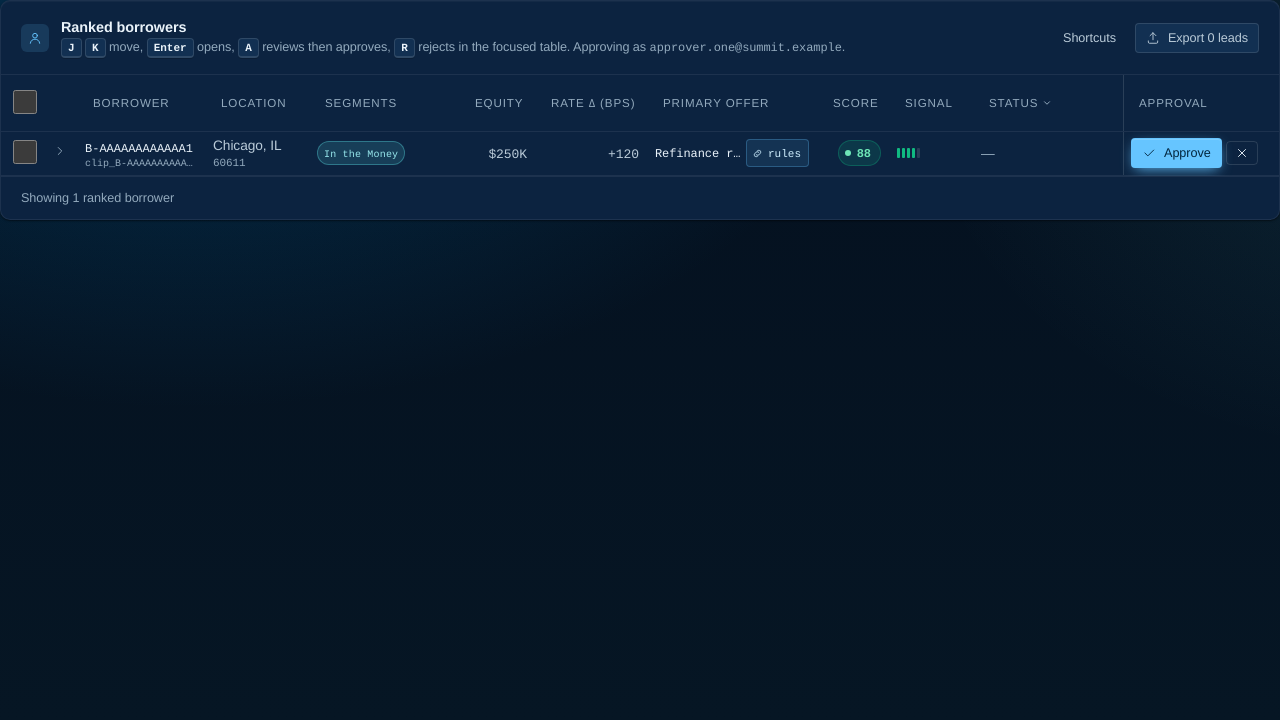
LeadTable A/R hotkeys from row-internal focus › focus scope (tables-v2 / a11y-09) › still opens the review when focus is on the table scroll region itself (click-row-then-A)
The image size is (1280, 720).
Step 1. Click the button with class "lead-table__borrower-btn" → (141, 154), box [85,140,197,169]
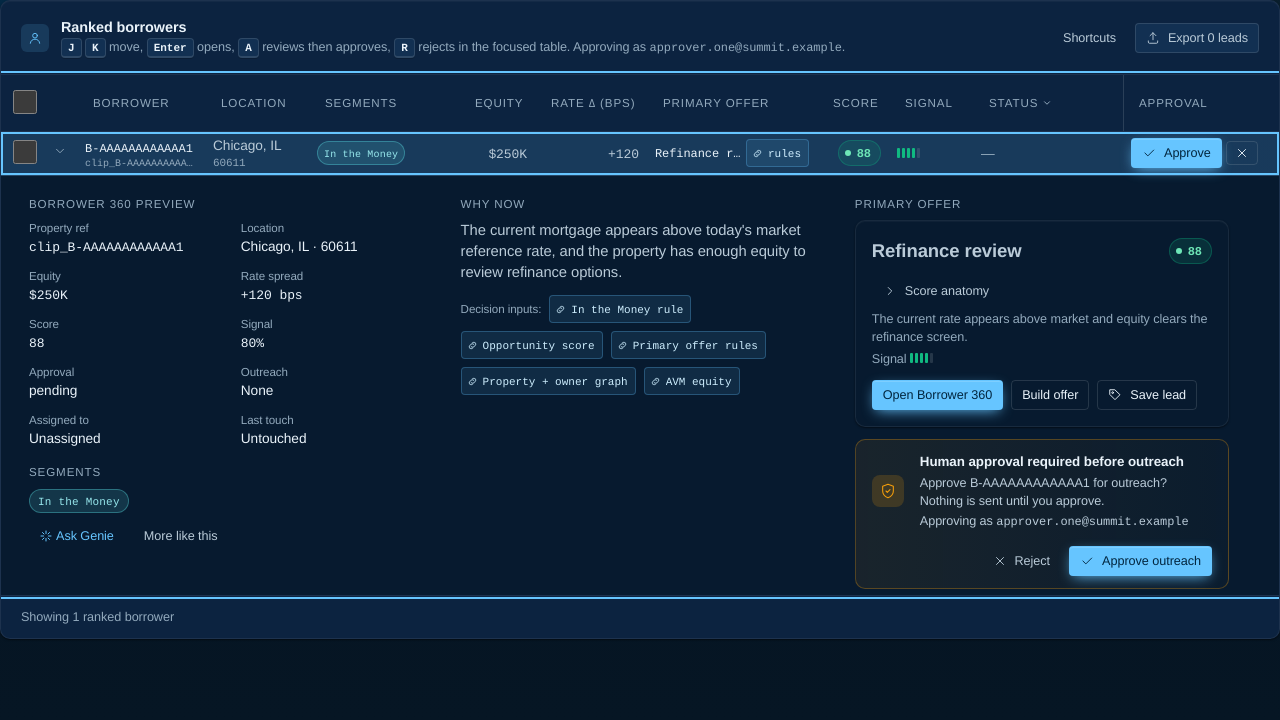
Step 2. Press a in the element with class "tbl-wrap"
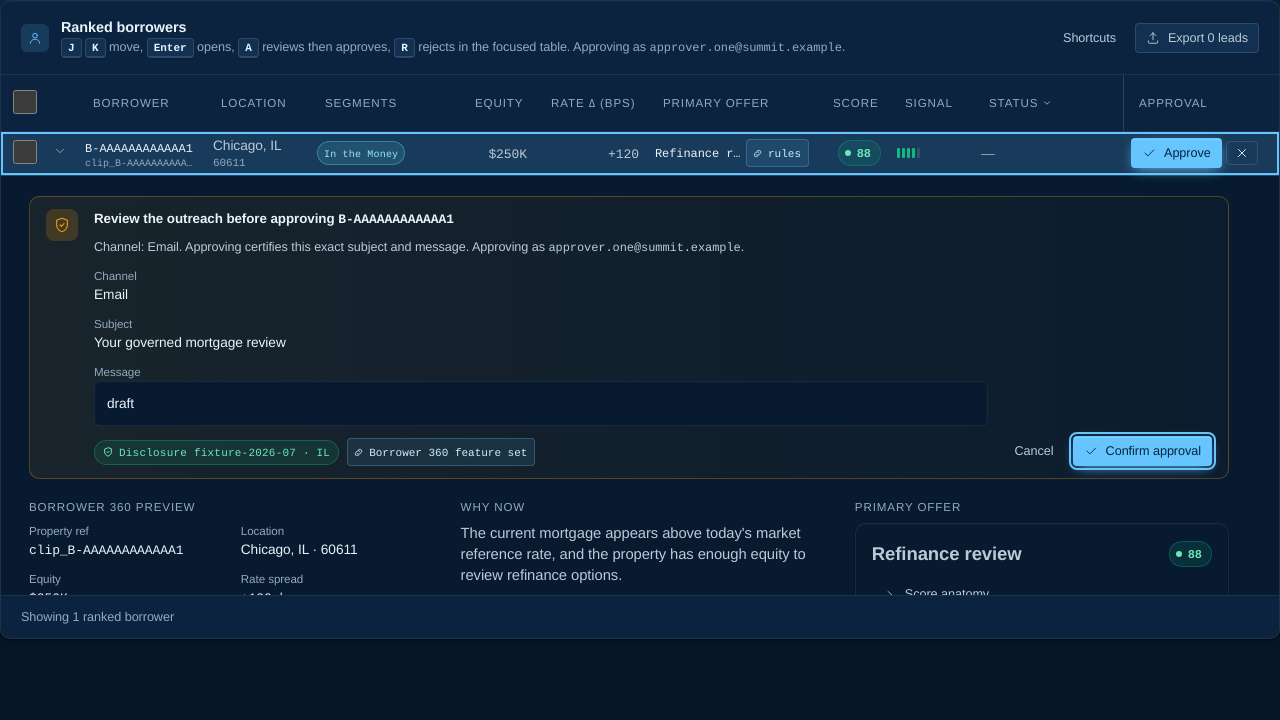
Now the form with test id "lead-approve-review" is shown, box [29,196,1229,479]
